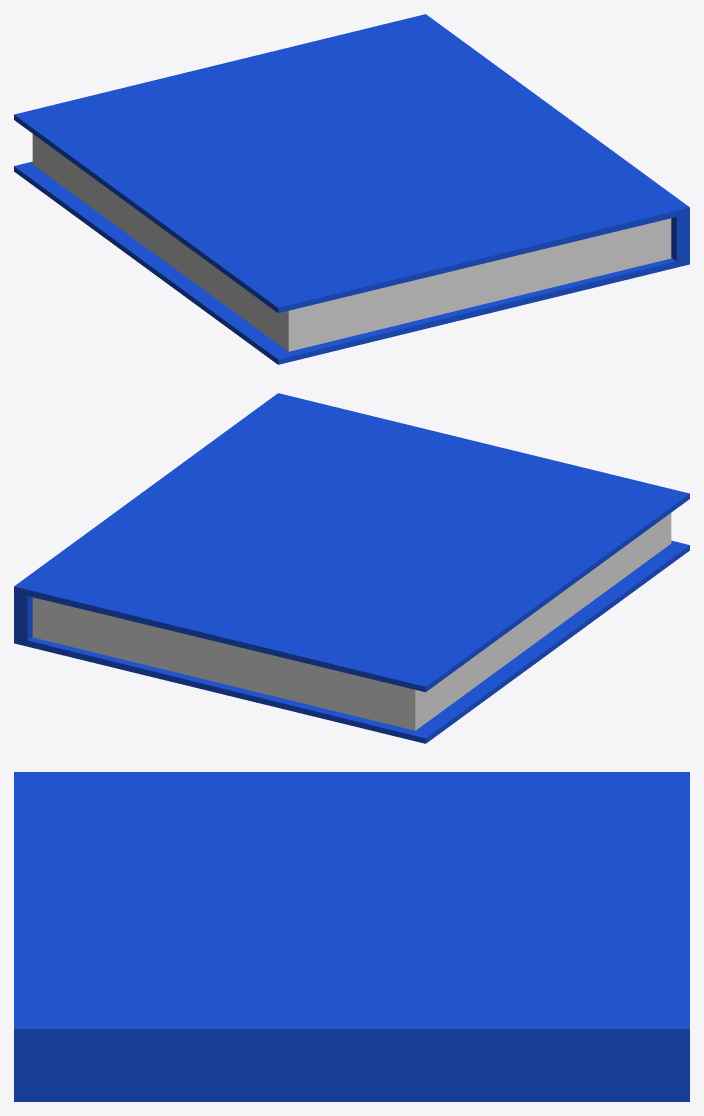
File: boek1.fbx
3 renders of one model, top to bottom at view 1: azimuth 30°, elevation 25°; view 2: azimuth 150°, elevation 25°; view 3: azimuth 270°, elevation 25°, orthographic. The views are drawn at different scales.
Parts seen in each view (by area): view 1: Cube.118, Cube.117; view 2: Cube.118, Cube.117; view 3: Cube.118.
Boxes of the visible parts, left/top/right/bottom form: Cube.118: left=14, top=14, right=689, bottom=364; Cube.117: left=32, top=134, right=671, bottom=351; Cube.118: left=14, top=393, right=689, bottom=743; Cube.117: left=32, top=513, right=671, bottom=730; Cube.118: left=14, top=772, right=689, bottom=1101.
Bounding box in the file's own units: 180 × 23.79 × 200.
